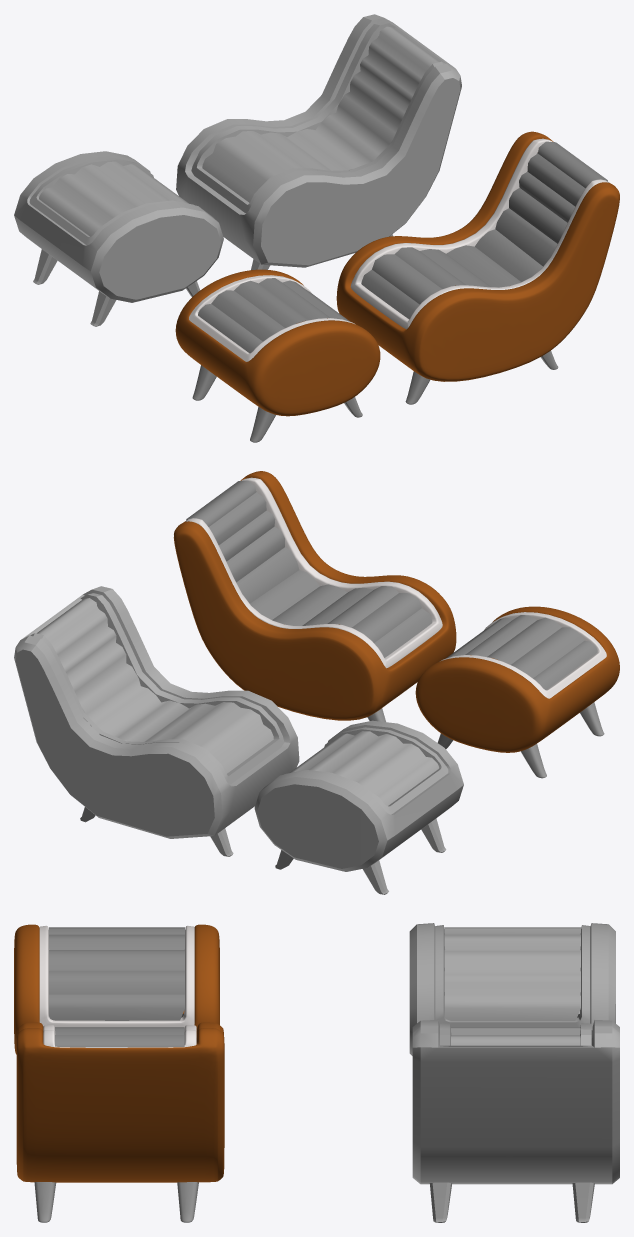
File: Sofa_sketch.fbx
The picture shows the model from 3 angles, top to bottom: view 1: azimuth 30°, elevation 25°; view 2: azimuth 150°, elevation 25°; view 3: azimuth 270°, elevation 25°; orthographic projection. The views are drawn at different scales.
Parts seen in each view (by area): view 1: group6, pasted__pasted__polySurface99, pasted__pasted__polySurface100, pasted__pasted__polySurface92, pasted__pasted__polySurface93, pasted__pasted__pasted__polySurface98, pasted__pasted__polySurface91; view 2: group6, pasted__pasted__polySurface99, pasted__pasted__polySurface100, pasted__pasted__polySurface92, pasted__pasted__polySurface93, pasted__pasted__pasted__polySurface98, pasted__pasted__polySurface91; view 3: group6, pasted__pasted__polySurface99, pasted__pasted__polySurface93, pasted__pasted__polySurface92, pasted__pasted__polySurface91, pasted__pasted__polySurface100, pasted__pasted__polySurface108, pasted__pasted__polySurface107, pasted__pasted__pasted__polySurface98.
Boxes of the visible parts, left/top/right/bottom form: group6: left=14, top=14, right=461, bottom=326; pasted__pasted__polySurface99: left=336, top=131, right=619, bottom=381; pasted__pasted__polySurface100: left=361, top=141, right=607, bottom=319; pasted__pasted__polySurface92: left=175, top=269, right=380, bottom=416; pasted__pasted__polySurface93: left=198, top=278, right=350, bottom=353; pasted__pasted__pasted__polySurface98: left=350, top=138, right=608, bottom=329; pasted__pasted__polySurface91: left=189, top=275, right=355, bottom=361; group6: left=14, top=586, right=463, bottom=894; pasted__pasted__polySurface99: left=173, top=471, right=456, bottom=720; pasted__pasted__polySurface100: left=186, top=480, right=432, bottom=657; pasted__pasted__polySurface92: left=415, top=606, right=619, bottom=752; pasted__pasted__polySurface93: left=446, top=615, right=597, bottom=689; pasted__pasted__pasted__polySurface98: left=185, top=477, right=442, bottom=668; pasted__pasted__polySurface91: left=440, top=612, right=606, bottom=698; group6: left=409, top=923, right=619, bottom=1222; pasted__pasted__polySurface99: left=16, top=1022, right=224, bottom=1182; pasted__pasted__polySurface93: left=49, top=927, right=184, bottom=1020; pasted__pasted__polySurface92: left=14, top=924, right=219, bottom=1054; pasted__pasted__polySurface91: left=39, top=925, right=194, bottom=1027; pasted__pasted__polySurface100: left=55, top=1027, right=184, bottom=1047; pasted__pasted__polySurface108: left=34, top=1182, right=56, bottom=1222; pasted__pasted__polySurface107: left=177, top=1182, right=198, bottom=1222; pasted__pasted__pasted__polySurface98: left=43, top=1025, right=196, bottom=1047.
Bounding box in the file's own units: 167 × 75.35 × 189.
